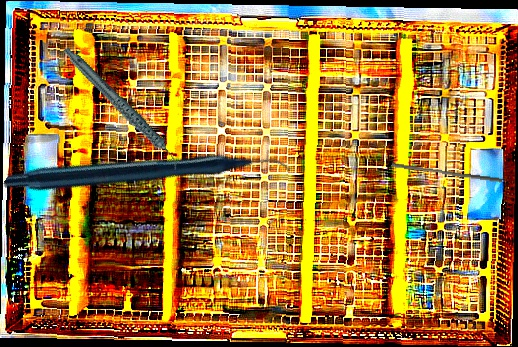Handpiece: (1, 41, 293, 311), (62, 28, 182, 189)
Pusher: (390, 162, 504, 183)
